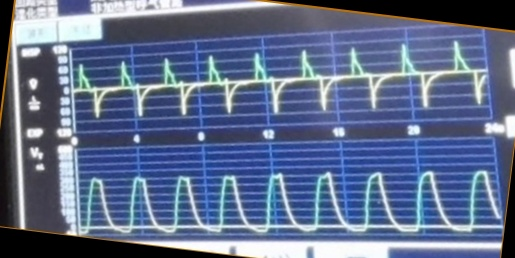Accumulation Flow: (73, 41, 486, 121)
Volume: (81, 167, 499, 235)
